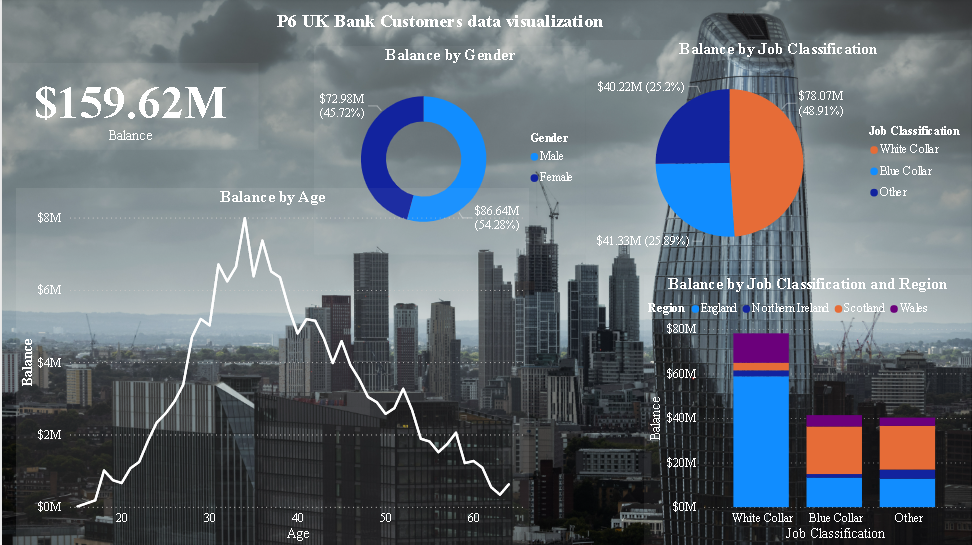

What the dashboard file says about the page in this screenshot:
{"tool":"powerbi","page":{"name":"Page 1","canvas":[1280,720],"ordinal":0},"visuals":[{"type":"card","fields":{"Values":["Sum(P6-UK-Bank-Customers.Balance)"]},"box":[0,85.7,337.1,114.3],"z":0},{"type":"lineChart","fields":{"Category":["P6-UK-Bank-Customers.Age"],"Y":["Sum(P6-UK-Bank-Customers.Balance)"]},"box":[18.6,250,674.3,470],"z":1000},{"type":"donutChart","fields":{"Category":["P6-UK-Bank-Customers.Gender"],"Y":["Sum(P6-UK-Bank-Customers.Balance)"]},"box":[410,62.9,357.1,274.3],"z":2000},{"type":"pieChart","fields":{"Category":["P6-UK-Bank-Customers.Job Classification"],"Y":["Sum(P6-UK-Bank-Customers.Balance)"]},"box":[767.1,55.7,505.7,300],"z":3000},{"type":"columnChart","fields":{"Category":["P6-UK-Bank-Customers.Job Classification"],"Series":["P6-UK-Bank-Customers.Region"],"Y":["Sum(P6-UK-Bank-Customers.Balance)"]},"box":[842.9,364.3,430,355.7],"z":4000},{"type":"textbox","box":[355.7,11.4,514.3,44.3],"z":5000},{"type":"lineChart","fields":{"Category":["P6-UK-Bank-Customers.Age"],"Y":["Sum(P6-UK-Bank-Customers.Balance)"]},"box":[18.6,250,674.3,470],"z":6000}]}

Visuals, with their boxes in screenshot pixels (x1, y1, x2, y2), scaled from the page's 1280x720 canvas onto the 972x545 screenshot:
card - Sum(P6-UK-Bank-Customers.Balance): x1=0, y1=65, x2=256, y2=151
lineChart - P6-UK-Bank-Customers.Age x Sum(P6-UK-Bank-Customers.Balance): x1=14, y1=189, x2=526, y2=544
donutChart - P6-UK-Bank-Customers.Gender x Sum(P6-UK-Bank-Customers.Balance): x1=311, y1=48, x2=583, y2=255
pieChart - P6-UK-Bank-Customers.Job Classification x Sum(P6-UK-Bank-Customers.Balance): x1=583, y1=42, x2=967, y2=269
columnChart - P6-UK-Bank-Customers.Job Classification x P6-UK-Bank-Customers.Region: x1=640, y1=276, x2=967, y2=544
textbox: x1=270, y1=9, x2=661, y2=42
lineChart - P6-UK-Bank-Customers.Age x Sum(P6-UK-Bank-Customers.Balance): x1=14, y1=189, x2=526, y2=544
